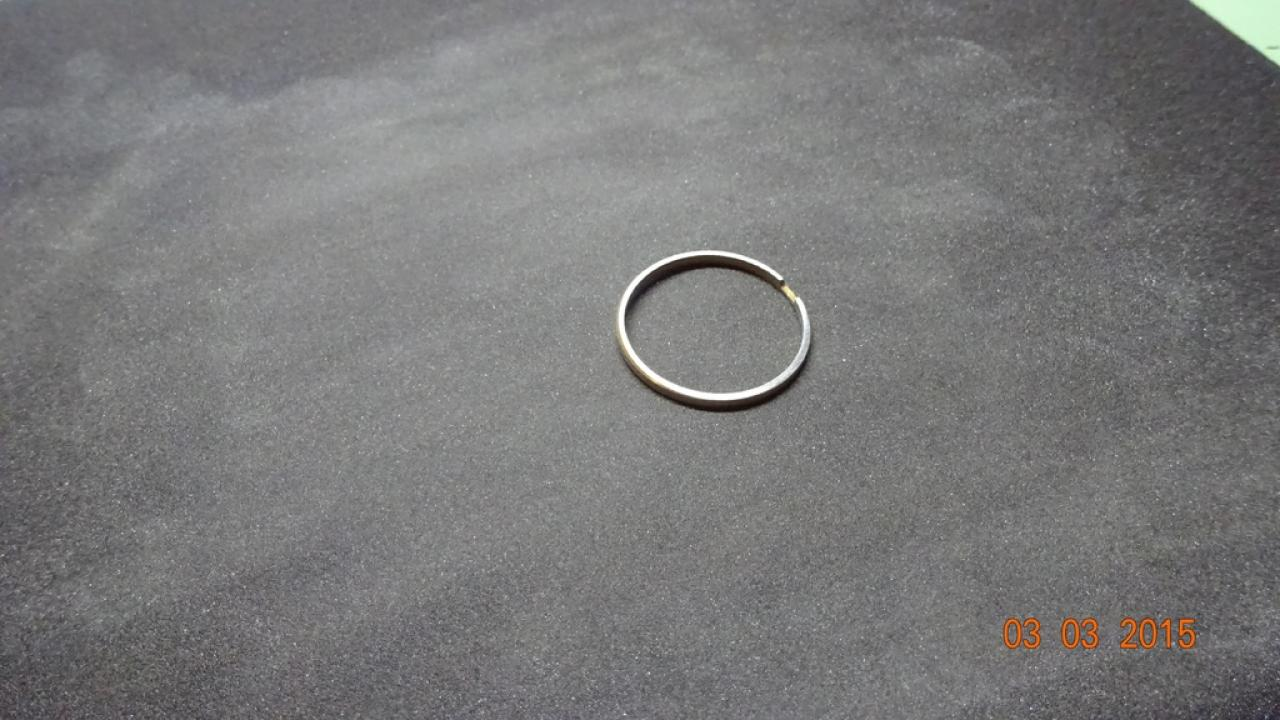ring: (618, 247, 816, 411)
